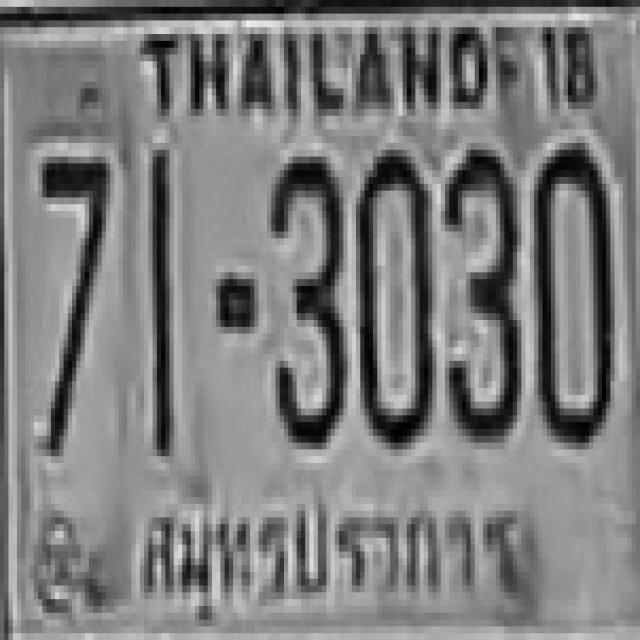0: (530, 140, 610, 439), (352, 143, 428, 443)
1: (146, 150, 172, 449)
3: (441, 143, 517, 436), (267, 150, 343, 442)
7: (38, 150, 106, 449)
SamutPrakan: (137, 483, 536, 627)
